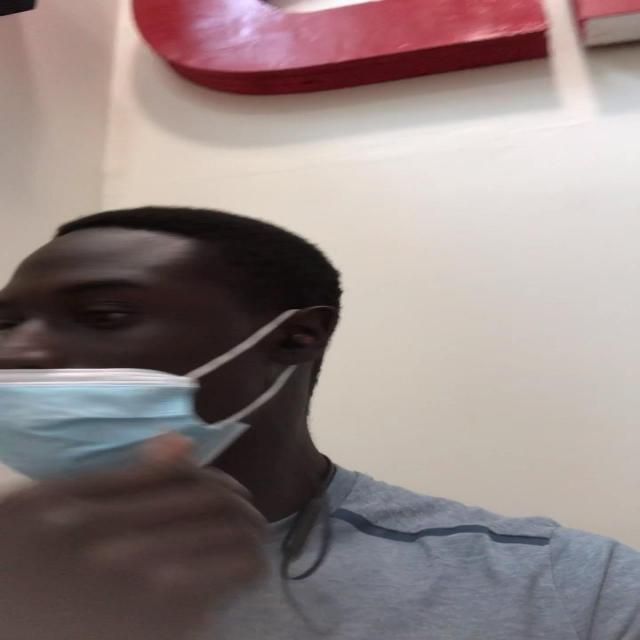face: (1, 246, 292, 487)
